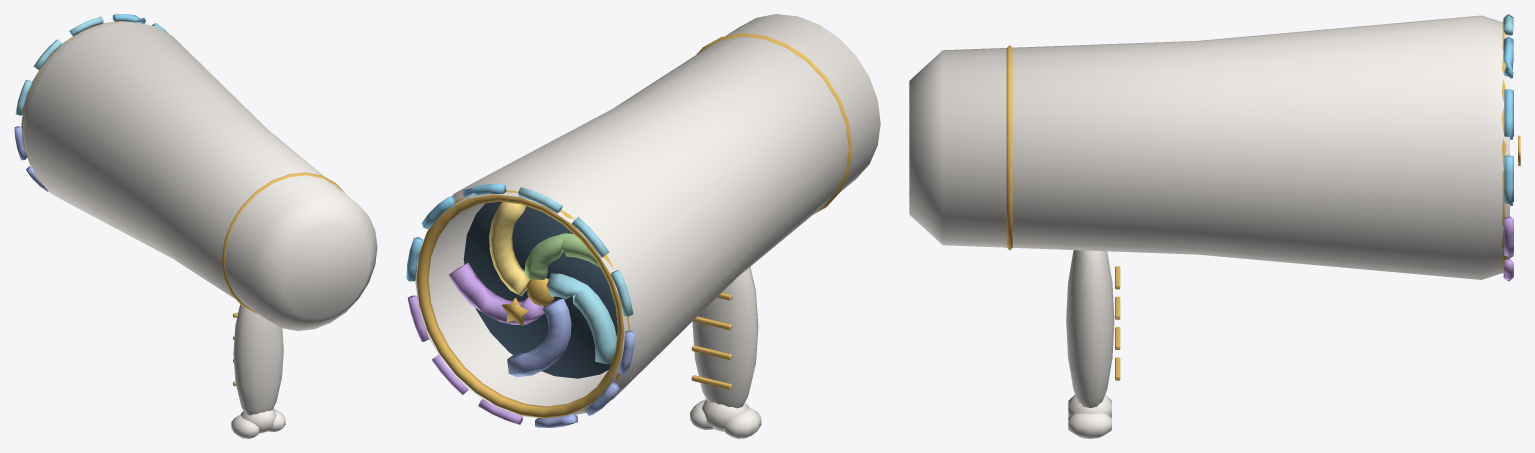
The model's file is dryer_tornado.glb.
The picture shows the model from 3 angles, left to right: view 1: azimuth 30°, elevation 25°; view 2: azimuth 150°, elevation 25°; view 3: azimuth 270°, elevation 25°; orthographic projection. The views are drawn at different scales.
Parts seen in each view (by area): view 1: Body; view 2: Body, Spiral; view 3: Body.
Boxes of the visible parts, <box> form: Body: <box>14,14,377,438</box>; Body: <box>406,14,880,438</box>; Spiral: <box>449,202,616,377</box>; Body: <box>909,14,1520,438</box>.
Size of the model in its own units: 0.197 by 0.3274 by 0.45.
Materials: 9 (9 with a texture image).
